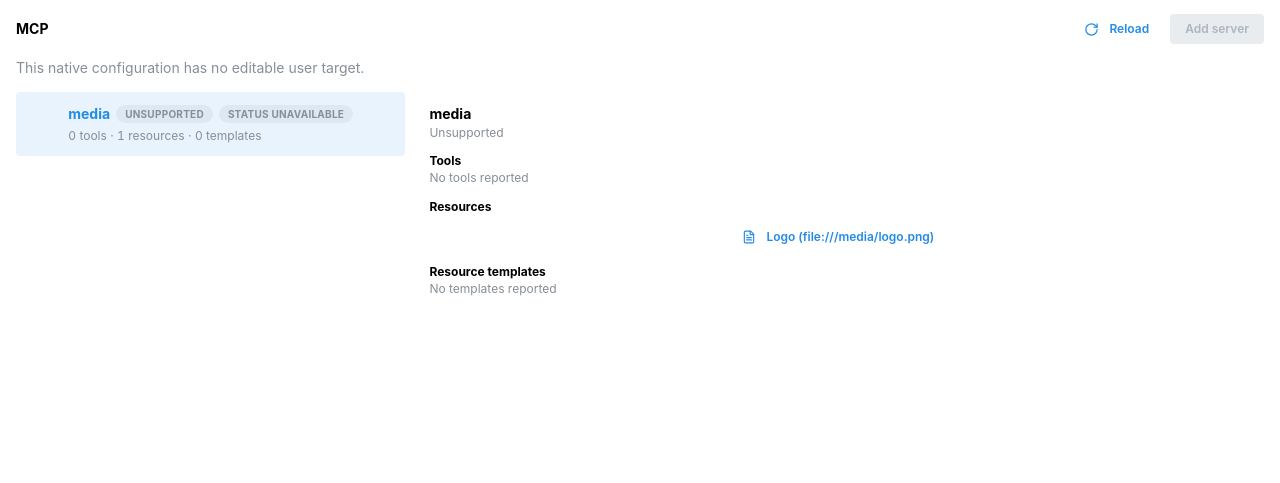
MCP runtime preferences › summarizes binary resource contents without dumping blob payloads
The image size is (1280, 483).
Click the button "Logo (file:///media/logo.png)". click: (841, 237)
box: [429, 222, 1252, 252]
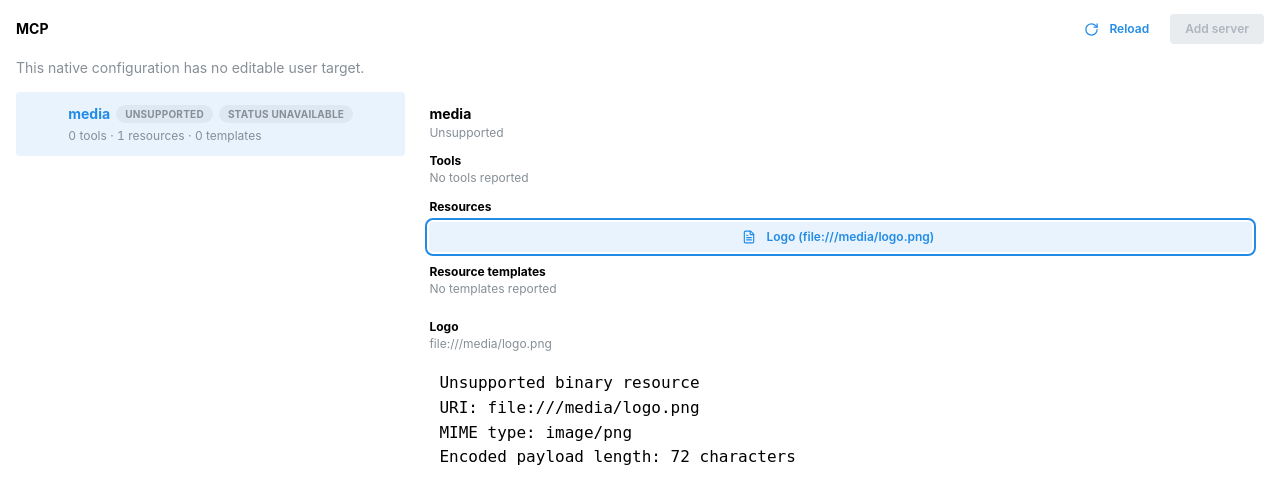
expect the text "MIME type: image/png" is shown: met, box [439, 373, 796, 466]
